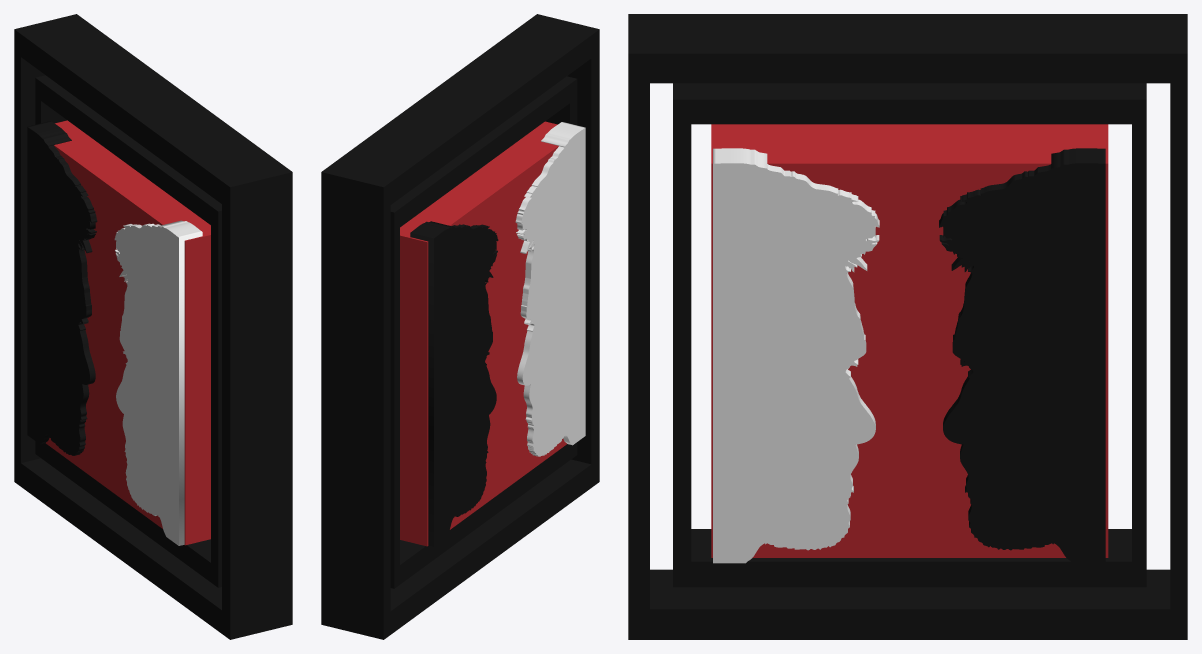
Rendered from sparring-model_dark.glb.
3 views of the same model, side by side, from view 1: azimuth 30°, elevation 25°; view 2: azimuth 150°, elevation 25°; view 3: azimuth 270°, elevation 25° (orthographic). The views are drawn at different scales.
Visible parts, largest first — view 1: Cube002, Cube, Color_Fill_2, Color_Fill_2001, Cube001; view 2: Cube002, Cube, Color_Fill_2001, Color_Fill_2, Cube001; view 3: Cube002, Cube, Color_Fill_2002, Color_Fill_2003, Cube001.
Boxes of the visible parts, bbox=[...] form: Cube002: bbox=[14, 14, 292, 639]; Cube: bbox=[46, 120, 210, 545]; Color_Fill_2: bbox=[27, 121, 97, 455]; Color_Fill_2001: bbox=[114, 220, 202, 545]; Cube001: bbox=[35, 75, 221, 587]; Cube002: bbox=[321, 14, 599, 639]; Cube: bbox=[400, 121, 566, 546]; Color_Fill_2001: bbox=[515, 122, 585, 456]; Color_Fill_2: bbox=[410, 221, 498, 546]; Cube001: bbox=[390, 76, 577, 588]; Cube002: bbox=[628, 14, 1187, 639]; Cube: bbox=[711, 124, 1108, 557]; Color_Fill_2002: bbox=[939, 148, 1105, 563]; Color_Fill_2003: bbox=[713, 148, 879, 563]; Cube001: bbox=[673, 83, 1146, 587].
Bounding box in the file's own units: 0.5628 × 2.17 × 1.88.
